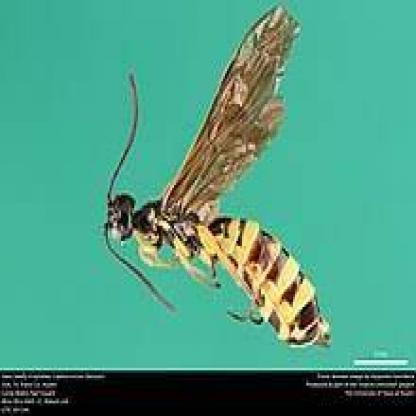sawfly: (100, 4, 340, 348)
